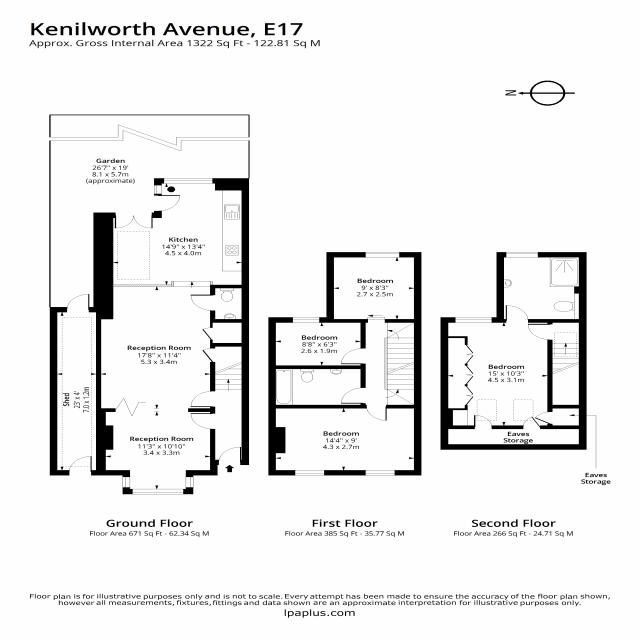DOOR: (189, 412, 216, 430), (217, 446, 242, 465), (190, 390, 215, 408), (527, 323, 553, 340), (340, 387, 366, 404), (340, 348, 366, 365), (505, 305, 529, 323), (154, 195, 181, 211), (190, 294, 215, 311), (365, 405, 388, 421), (473, 415, 492, 429), (522, 416, 541, 429)
ROOM: (93, 178, 250, 495), (440, 305, 553, 429), (268, 405, 422, 476), (326, 252, 422, 323), (268, 317, 366, 369)
WINDOW: (132, 489, 184, 495), (164, 178, 213, 184), (455, 317, 492, 323), (294, 469, 325, 476), (365, 252, 400, 258), (506, 252, 539, 258), (364, 470, 395, 476), (292, 317, 320, 323), (185, 477, 194, 488), (122, 477, 130, 488), (154, 185, 162, 194)
